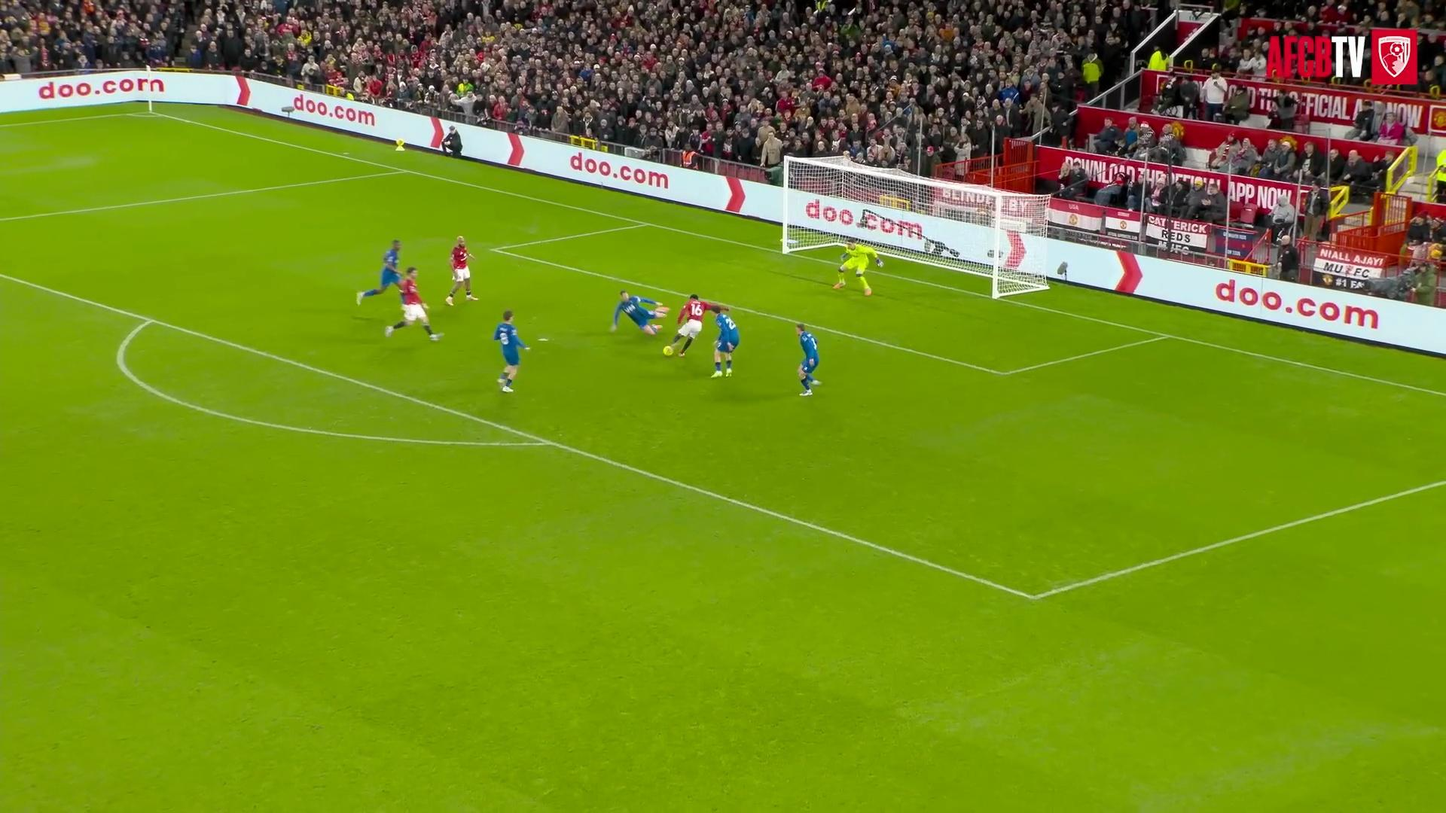football: (662, 345, 673, 355)
player: (385, 267, 441, 340), (356, 239, 401, 304), (493, 309, 527, 391), (834, 240, 883, 295), (667, 294, 709, 357), (612, 291, 668, 335), (709, 304, 739, 377), (445, 236, 476, 305), (796, 323, 819, 395)
